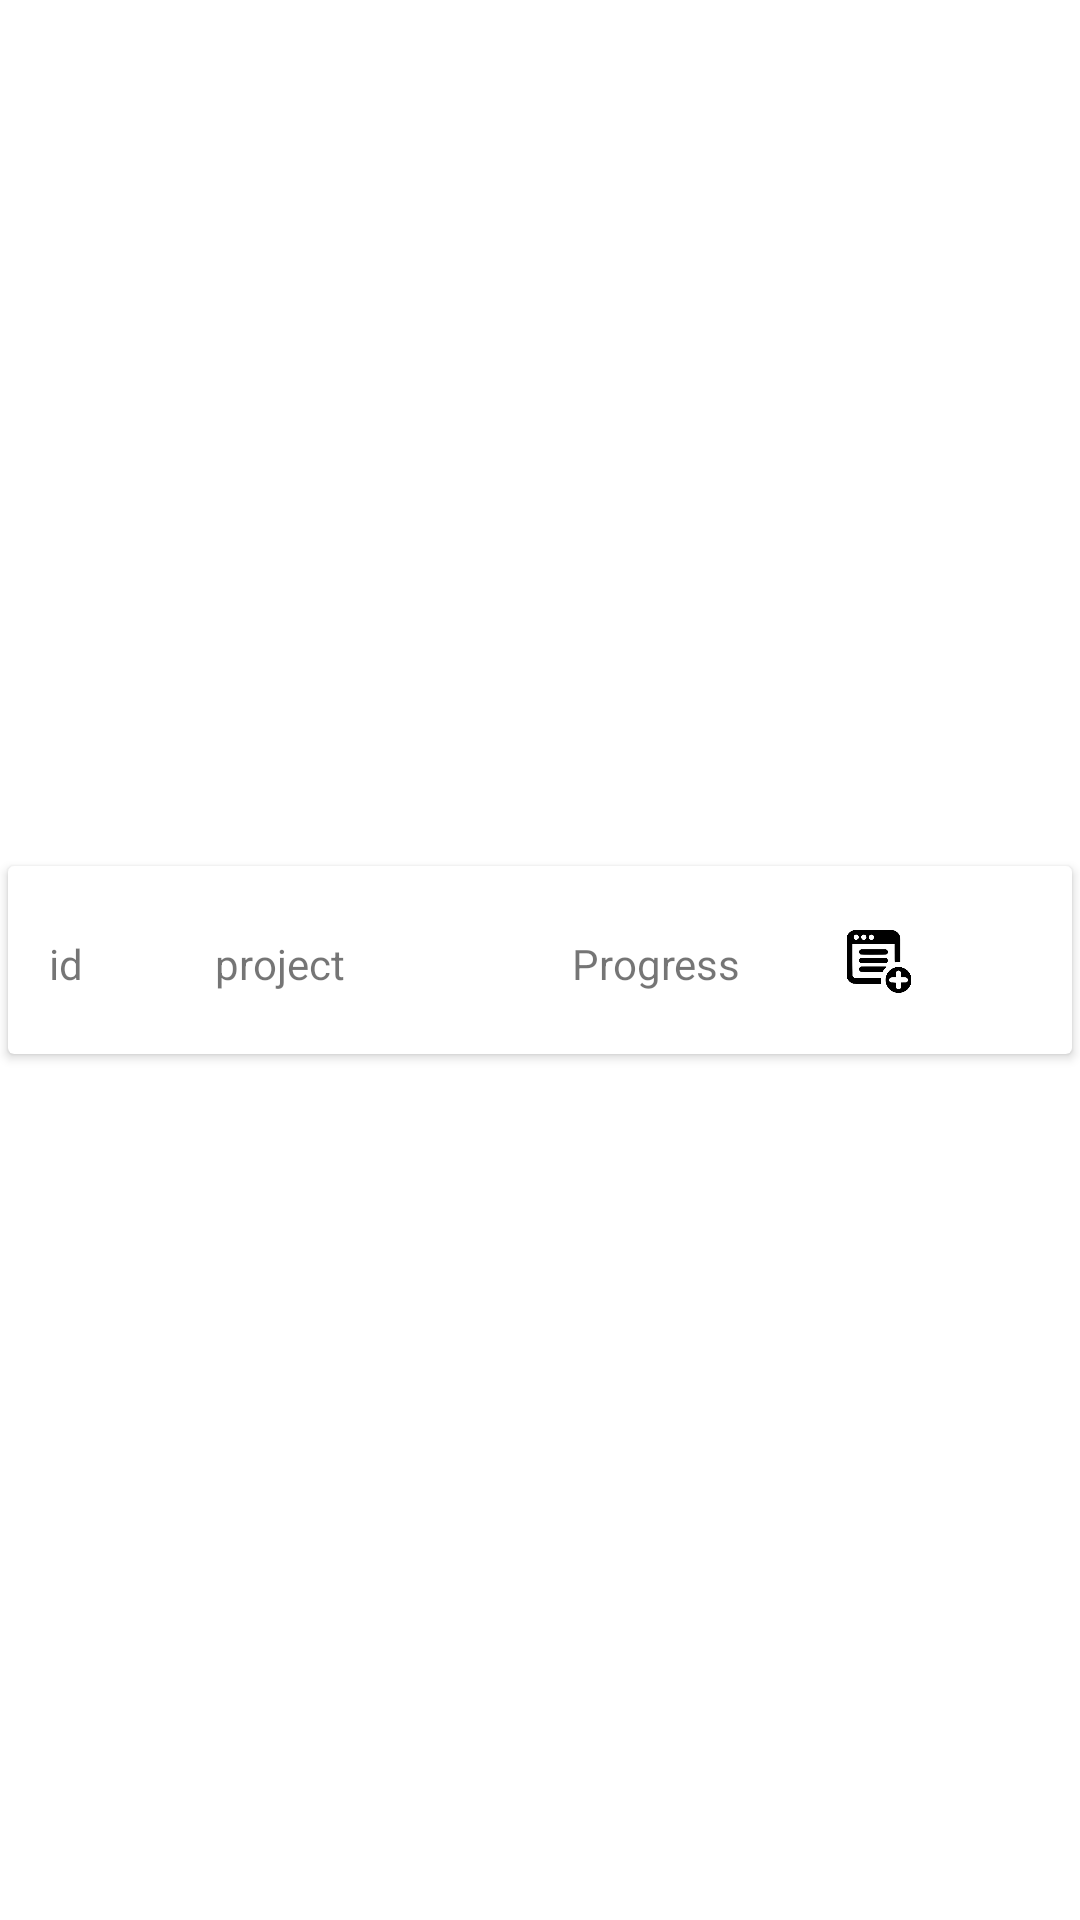

Icon bounding boxes for this 1080*1920 phone screenshot, format (x1, y1, x2, y2):
task: (847, 930, 911, 993)
